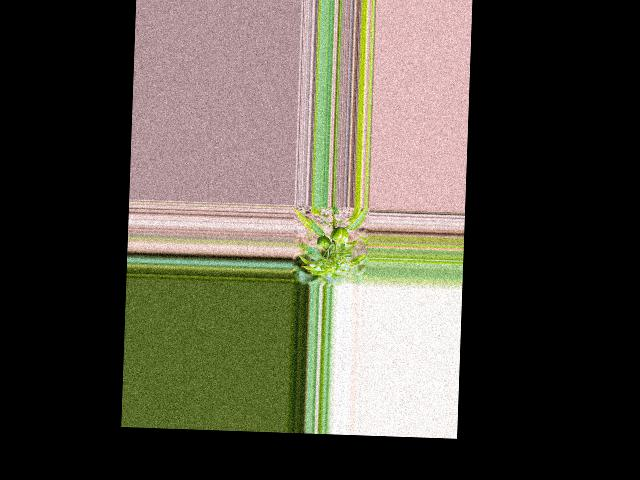bell_pepper: (315, 234, 330, 249)
